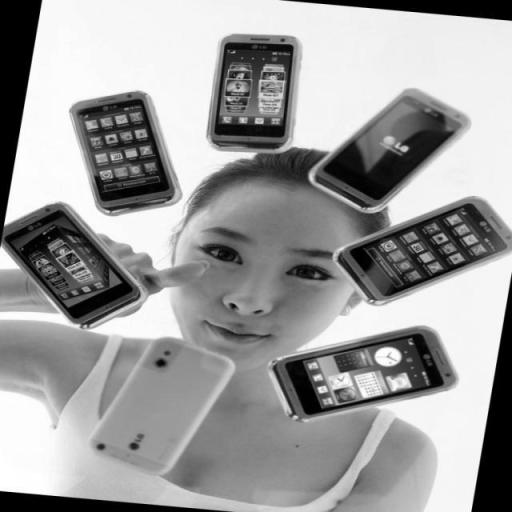phone: (88, 333, 240, 473), (301, 87, 469, 212), (337, 191, 511, 310), (267, 320, 463, 421), (5, 203, 149, 335), (60, 88, 179, 208), (203, 28, 302, 153)
